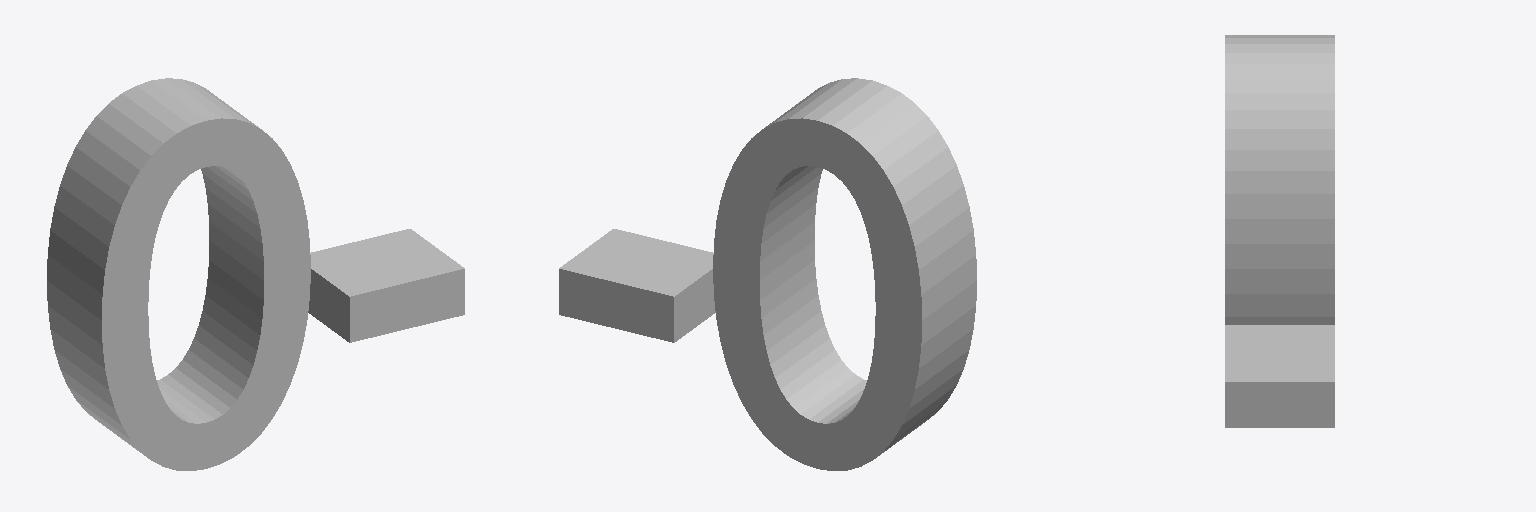
File: one.obj
The picture shows the model from 3 angles: view 1: azimuth 30°, elevation 25°; view 2: azimuth 150°, elevation 25°; view 3: azimuth 270°, elevation 25°; orthographic projection.
Parts seen in each view (by area): view 1: Blue_Team__Text; view 2: Blue_Team__Text; view 3: Blue_Team__Text.
Boxes of the visible parts, x1=… form: Blue_Team__Text: x1=47, y1=78, x2=464, y2=470; Blue_Team__Text: x1=559, y1=78, x2=976, y2=470; Blue_Team__Text: x1=1225, y1=35, x2=1334, y2=427.
Size of the model in its own units: 0.7642 by 0.7 by 0.2.